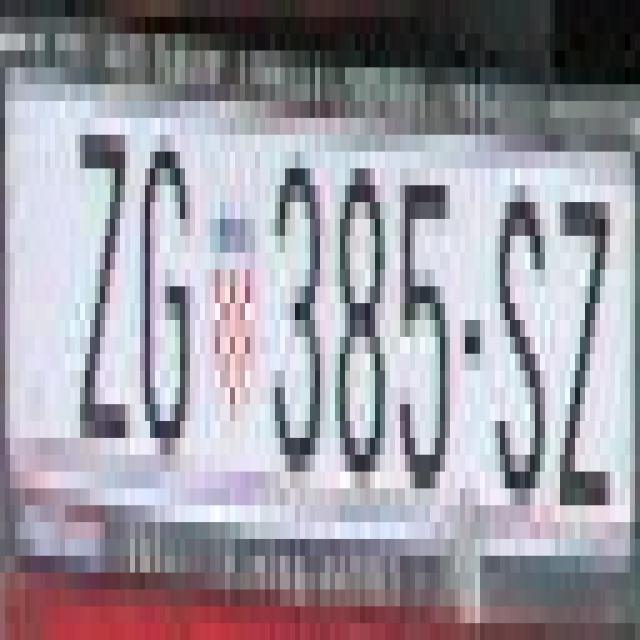3: (265, 118, 330, 488)
5: (400, 135, 455, 488)
8: (335, 168, 400, 488)
G: (135, 135, 185, 438)
S: (490, 202, 550, 505)
Z: (555, 169, 620, 522), (75, 101, 125, 438)
